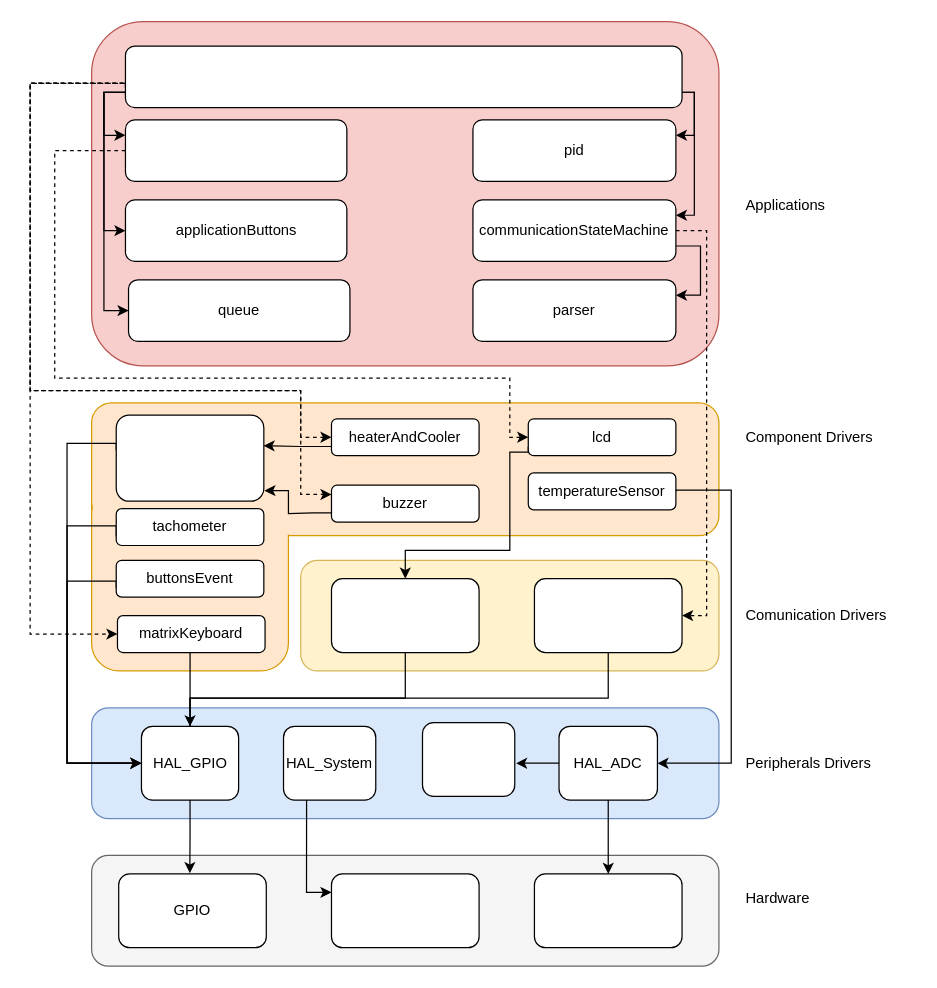
The diagram is 937 pixels wide and 988 high, and some of its shapes have lost their labels. The shapes that lost their labels are listed below. From the top down, each one's box as (x1, y1, x2, y2) in pixels, then its label:
(124, 45, 682, 108): application
(124, 119, 347, 181): applicationScreen
(115, 414, 264, 501): pwmConfig
(330, 577, 479, 653): I2C_System
(533, 577, 682, 653): UART_System
(421, 721, 515, 796): HAL_DMA
(330, 873, 479, 948): TIMER
(533, 873, 682, 948): ADC
